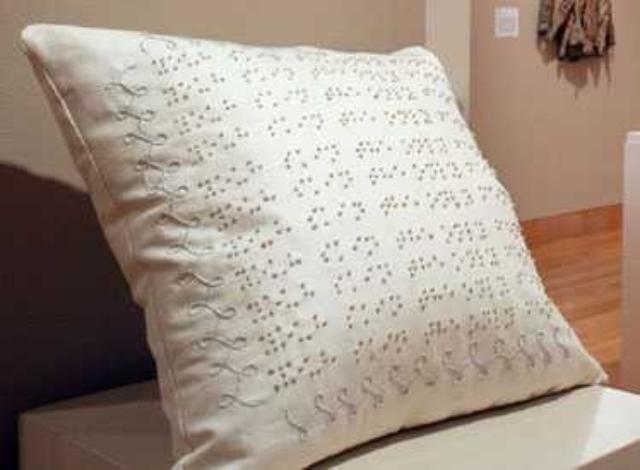pillow: (17, 21, 609, 469)
